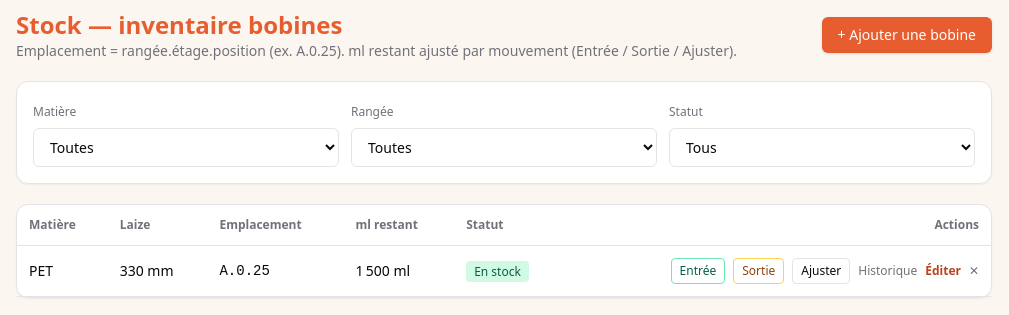
Test case: StockPage — inventaire bobines › filtre statut → recharge /api/bobines avec le paramètre
The width and height of the screenshot is (1009, 315).
expect the row with test id "stock-row-10" is shown: met, box [17, 246, 991, 296]
Select "Consommée" in the dropdown with test id "filtre-statut" at (822, 148), box [669, 128, 975, 167]
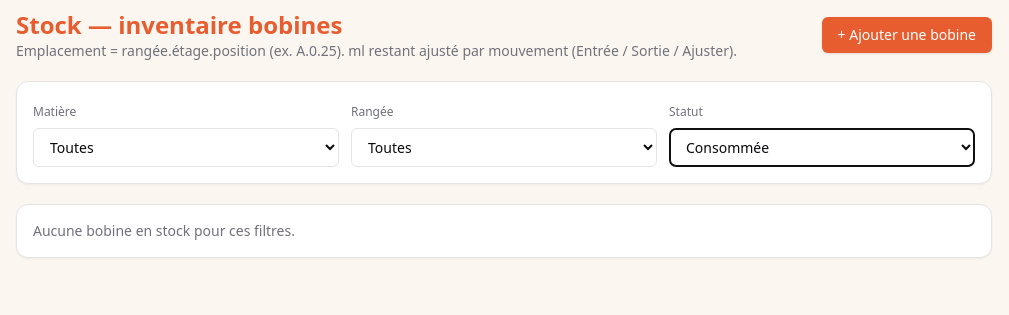
expect the text "Aucune bobine en stock pour ces filtres." is shown: met, box [33, 221, 295, 240]
